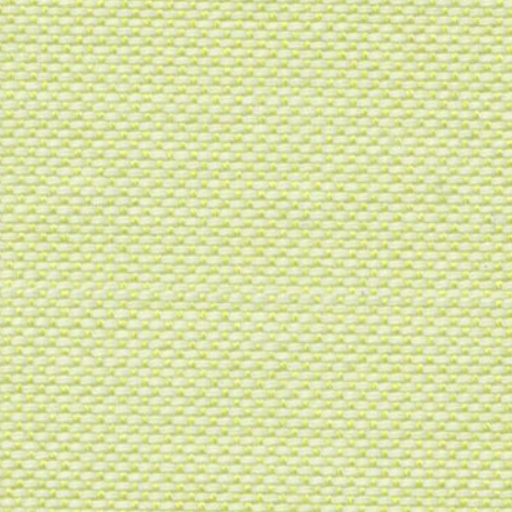TuoSha: (14, 254, 500, 334)
